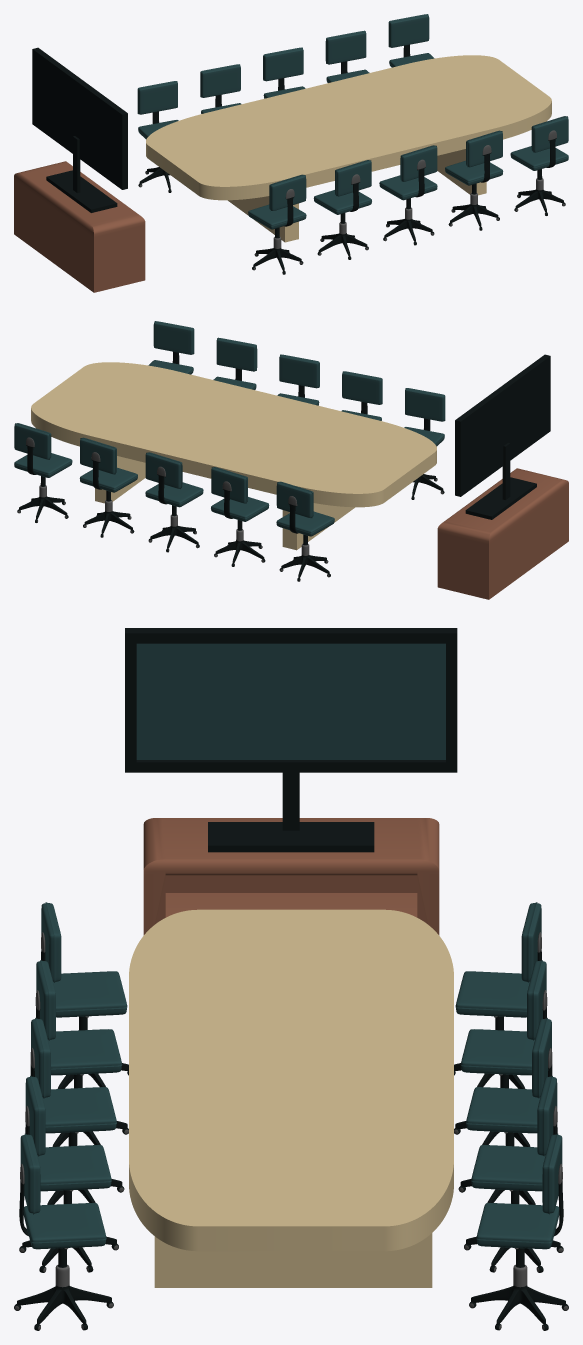
The model's file is Sala reunião.fbx.
3 views of the same model, one above another, from view 1: azimuth 30°, elevation 25°; view 2: azimuth 150°, elevation 25°; view 3: azimuth 270°, elevation 25° (orthographic). The views are drawn at different scales.
Visible parts, largest first — view 1: Cube.113, Cube.117, Cube.115, Cube.118, Cube.114; view 2: Cube.113, Cube.117, Cube.115, Cube.118, Cube.114; view 3: Cube.113, Cube.118, Cube.117, Cube.115, Cube.114.
Boxes of the visible parts, box(x1,y1,x2,y2) form: Cube.113: box(146, 55, 551, 200); Cube.117: box(137, 14, 568, 274); Cube.115: box(14, 161, 145, 292); Cube.118: box(32, 47, 127, 212); Cube.114: box(228, 149, 486, 242); Cube.113: box(31, 362, 436, 507); Cube.117: box(14, 321, 445, 581); Cube.115: box(437, 468, 568, 599); Cube.118: box(455, 354, 550, 519); Cube.114: box(95, 456, 354, 550); Cube.113: box(129, 909, 453, 1251); Cube.118: box(125, 628, 457, 852); Cube.117: box(14, 902, 568, 1330); Cube.115: box(143, 818, 439, 935); Cube.114: box(154, 1233, 432, 1287).
Bounding box in the file's own units: 4338 × 1554 × 2398.
